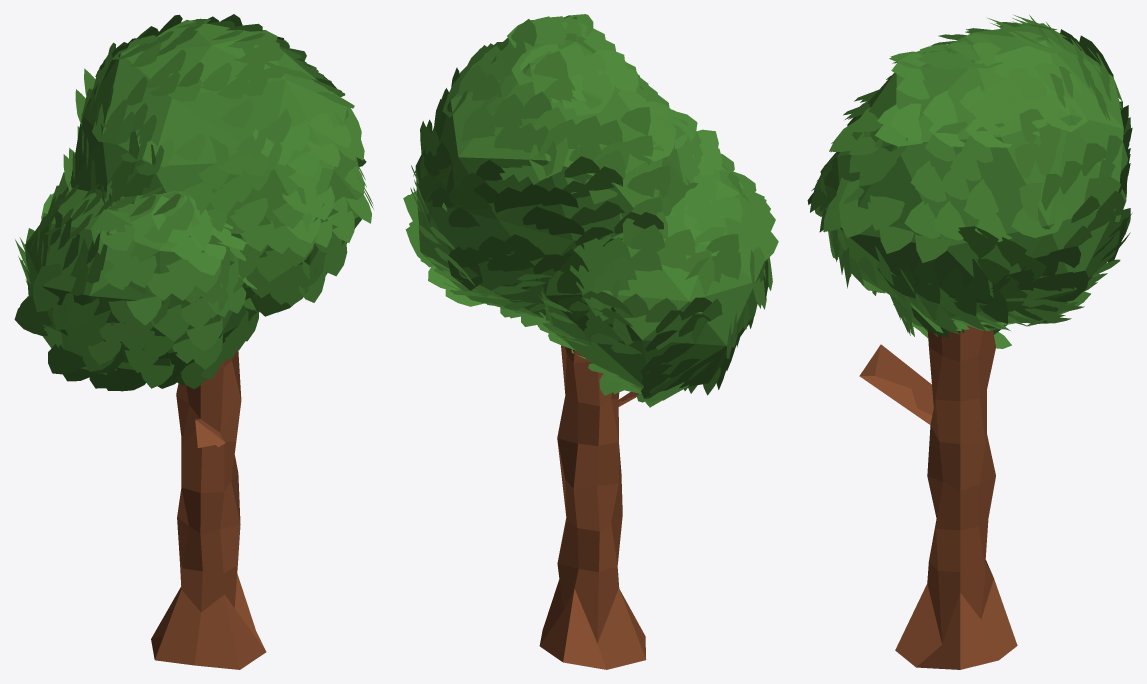
Rendered from tree1.glb.
3 views of the same model, side by side, from view 1: azimuth 30°, elevation 25°; view 2: azimuth 150°, elevation 25°; view 3: azimuth 270°, elevation 25° (orthographic). The views are drawn at different scales.
Parts seen in each view (by area): view 1: foliage.001, Cylinder.001, particle (×20); view 2: foliage.001, Cylinder.001, particle (×22); view 3: foliage.001, Cylinder.001, particle (×36).
Boxes of the visible parts, left/top/right/bottom form: foliage.001: left=25, top=20, right=363, bottom=374; Cylinder.001: left=151, top=350, right=266, bottom=669; particle (×20): left=33, top=99, right=334, bottom=388; foliage.001: left=415, top=33, right=768, bottom=392; Cylinder.001: left=539, top=345, right=646, bottom=669; particle (×22): left=447, top=51, right=714, bottom=349; foliage.001: left=824, top=23, right=1123, bottom=334; Cylinder.001: left=859, top=325, right=1017, bottom=669; particle (×36): left=829, top=52, right=1126, bottom=323.
Bounding box in the file's own units: 2.65 × 5.01 × 2.33.
Materials: 1 (1 with a texture image).
